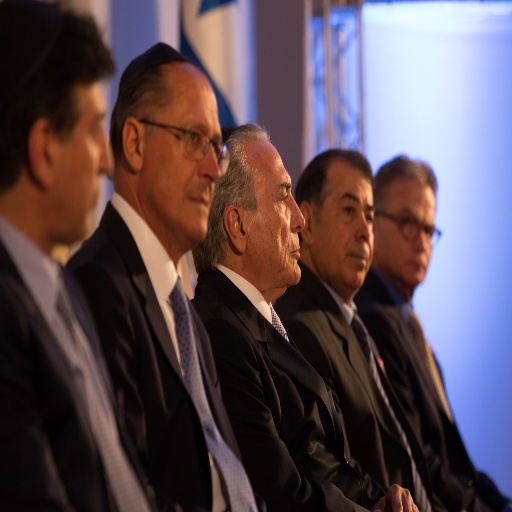hand: (373, 484, 416, 511)
